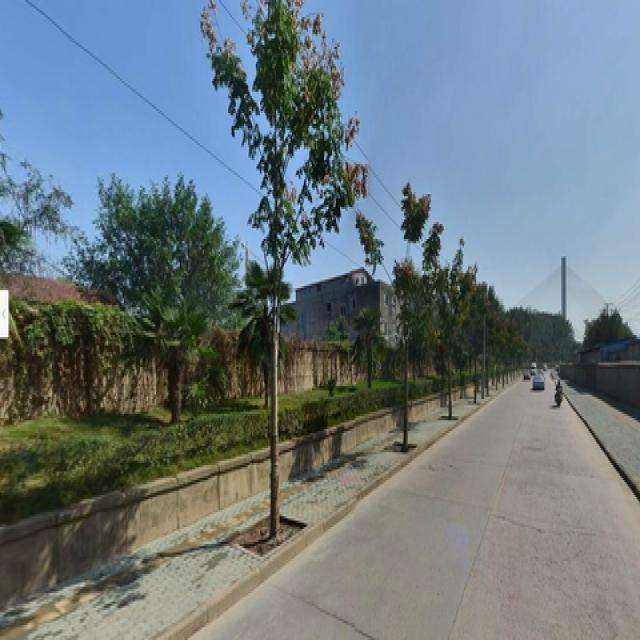koel: (372, 190, 432, 456)
